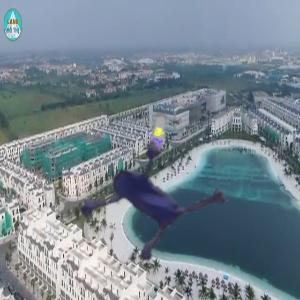drone: (57, 81, 261, 285)
